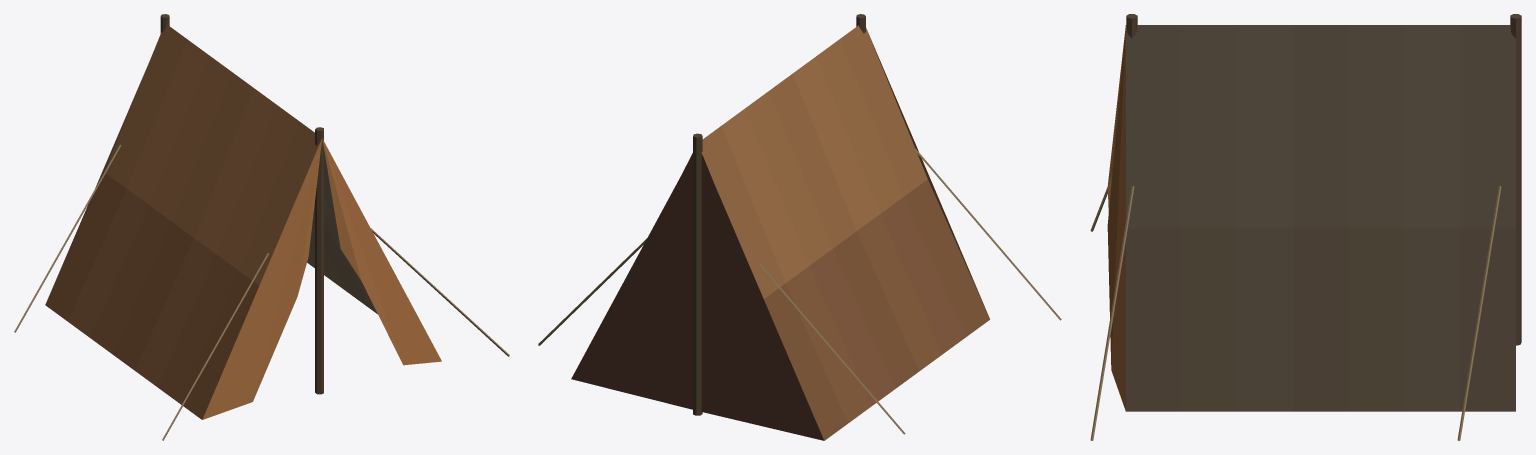
Rendered from RidgeTent.glb.
The picture shows the model from 3 angles, left to right: view 1: azimuth 30°, elevation 25°; view 2: azimuth 150°, elevation 25°; view 3: azimuth 270°, elevation 25°; orthographic projection. The views are drawn at different scales.
Parts seen in each view (by area): view 1: RidgeTent; view 2: RidgeTent; view 3: RidgeTent.
Part boxes in pixels (x1,y1,x2,y2): RidgeTent: (14,14,509,440); RidgeTent: (538,14,1061,440); RidgeTent: (1090,14,1521,440).
Bounding box in the file's own units: 4.12 × 2.98 × 3.56.
